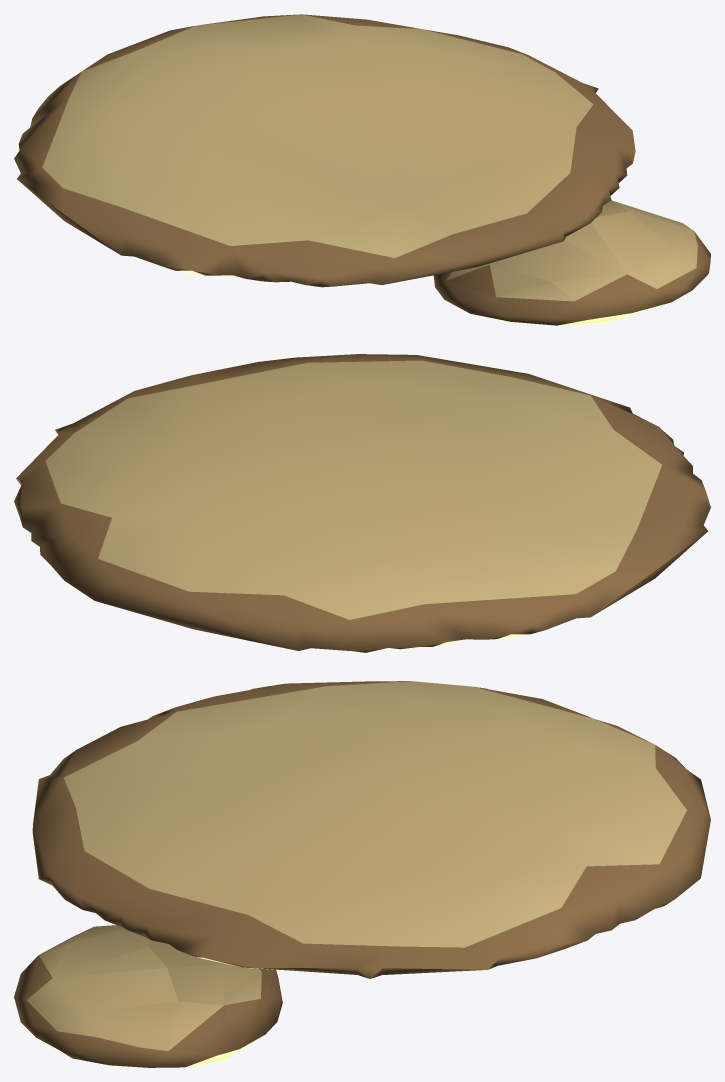
The model's file is mire_bracket_fungus_lod2.glb.
The picture shows the model from 3 angles, top to bottom: view 1: azimuth 30°, elevation 25°; view 2: azimuth 150°, elevation 25°; view 3: azimuth 270°, elevation 25°; orthographic projection. The views are drawn at different scales.
Visible parts, largest first — view 1: mire_bracket_fungus.001; view 2: mire_bracket_fungus.001; view 3: mire_bracket_fungus.001.
Part boxes in pixels (box(x1,y1,x2,y2)): mire_bracket_fungus.001: box(14, 14, 710, 325); mire_bracket_fungus.001: box(14, 354, 710, 652); mire_bracket_fungus.001: box(14, 681, 710, 1067).
Bounding box in the file's own units: 5.03 × 1.2 × 5.05.
